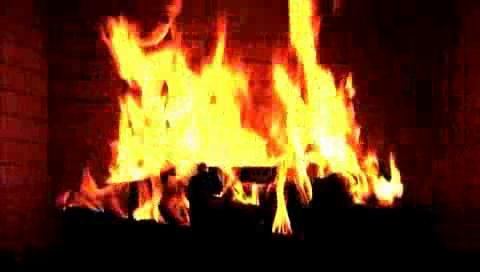fire: (85, 0, 415, 229)
